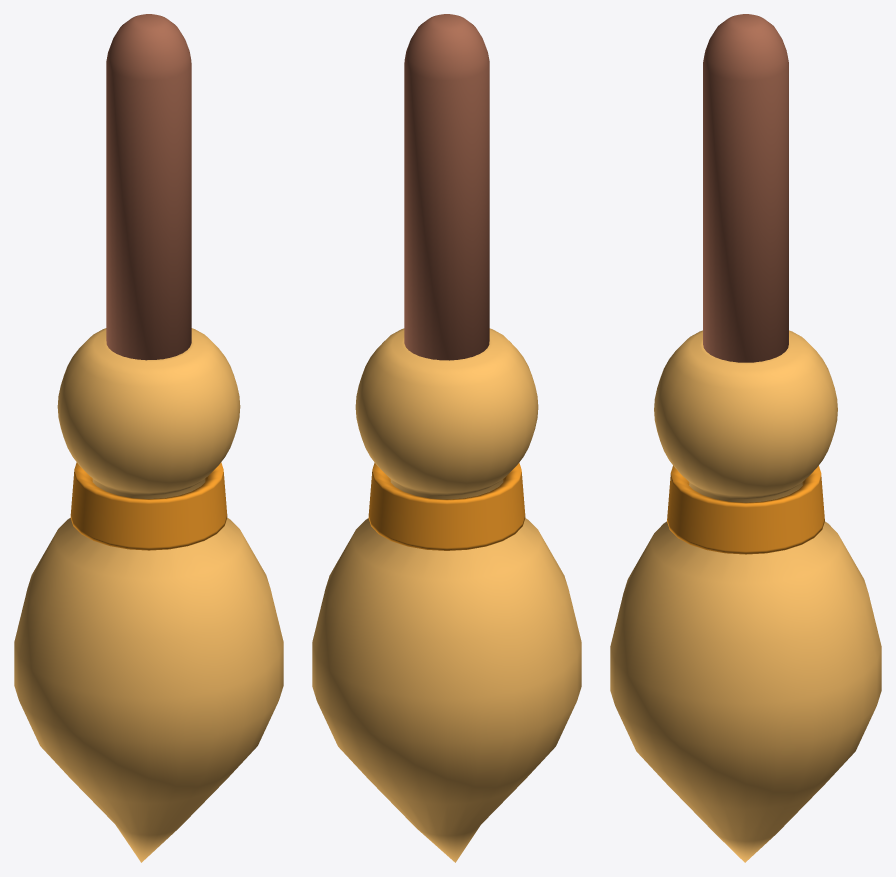
Rendered from broom.fbx.
The picture shows the model from 3 angles, left to right: view 1: azimuth 30°, elevation 25°; view 2: azimuth 150°, elevation 25°; view 3: azimuth 270°, elevation 25°; orthographic projection.
Visible parts, largest first — view 1: Broom; view 2: Broom; view 3: Broom.
Boxes of the visible parts, box(x1,y1,x2,y2) form: Broom: box(14, 14, 283, 862); Broom: box(312, 14, 581, 862); Broom: box(610, 14, 881, 862).
Size of the model in its own units: 18.01 by 62.06 by 18.01.
